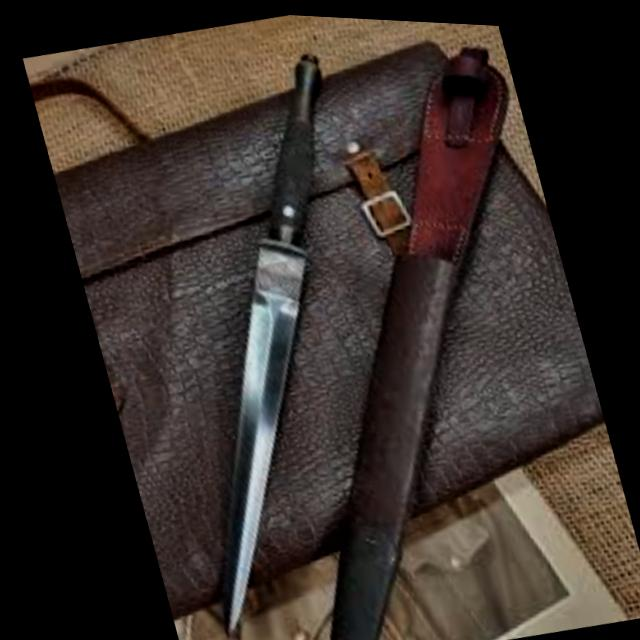Knife: (163, 18, 640, 640), (73, 37, 455, 640)
